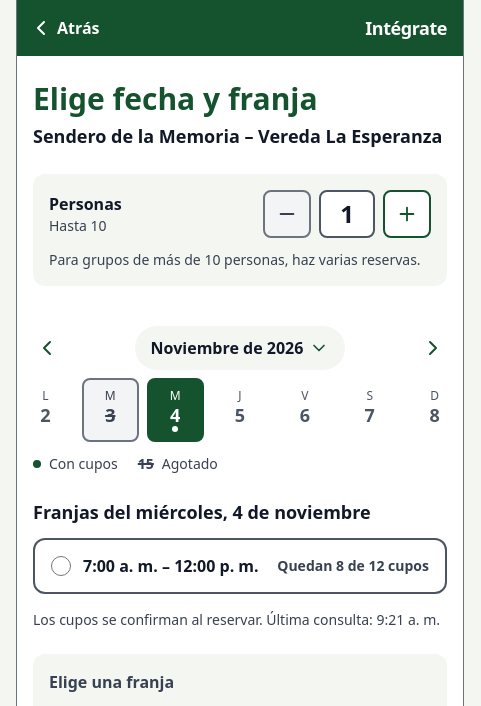
Test: selector de franjas (T-1.10b) › lleva a la primera fecha con cupo cuando el turista se movió a otro día
Expected: the button "Primera fecha con cupo" is not shown
Click the button "M 3". click: (110,410)
box: [82,378,139,442]
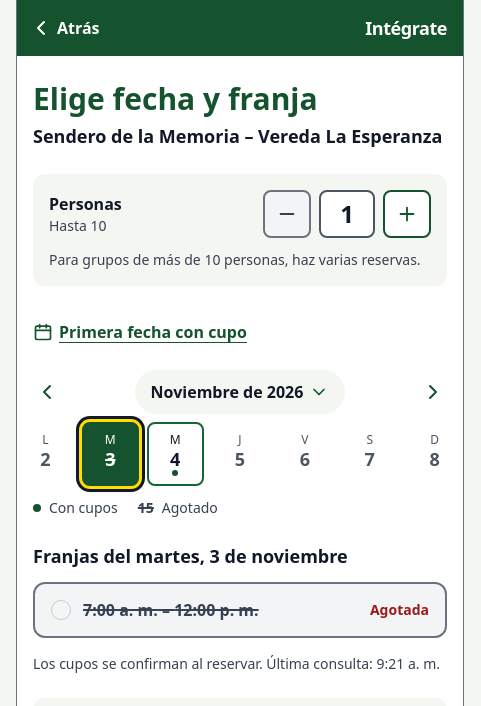
Click the button "Primera fecha con cupo". click: (140,332)
box: [33,310,247,354]
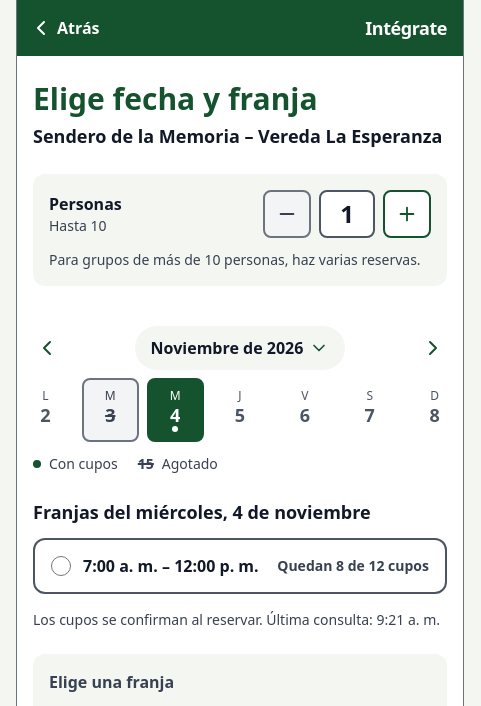
Now the button "Primera fecha con cupo" is gone
